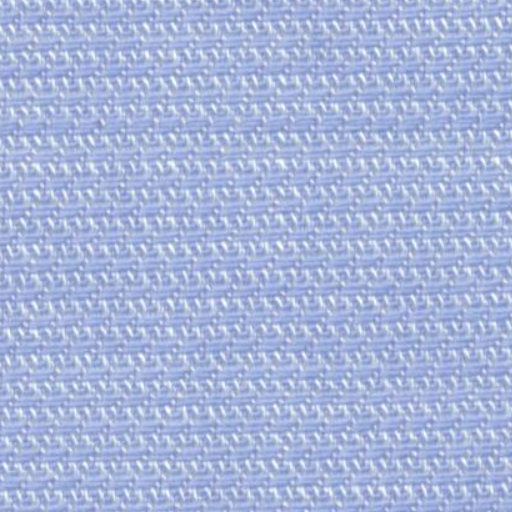TuoSha: (10, 94, 496, 179)
